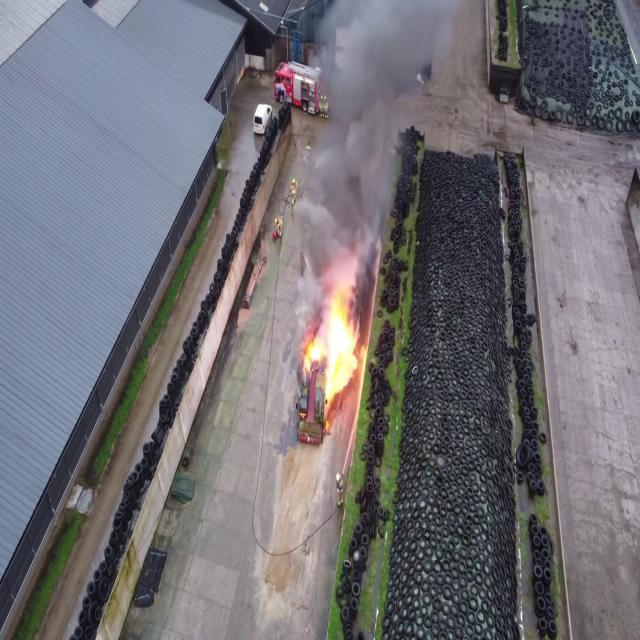Fire: (304, 282, 362, 403)
Smoke: (289, 0, 466, 276)
